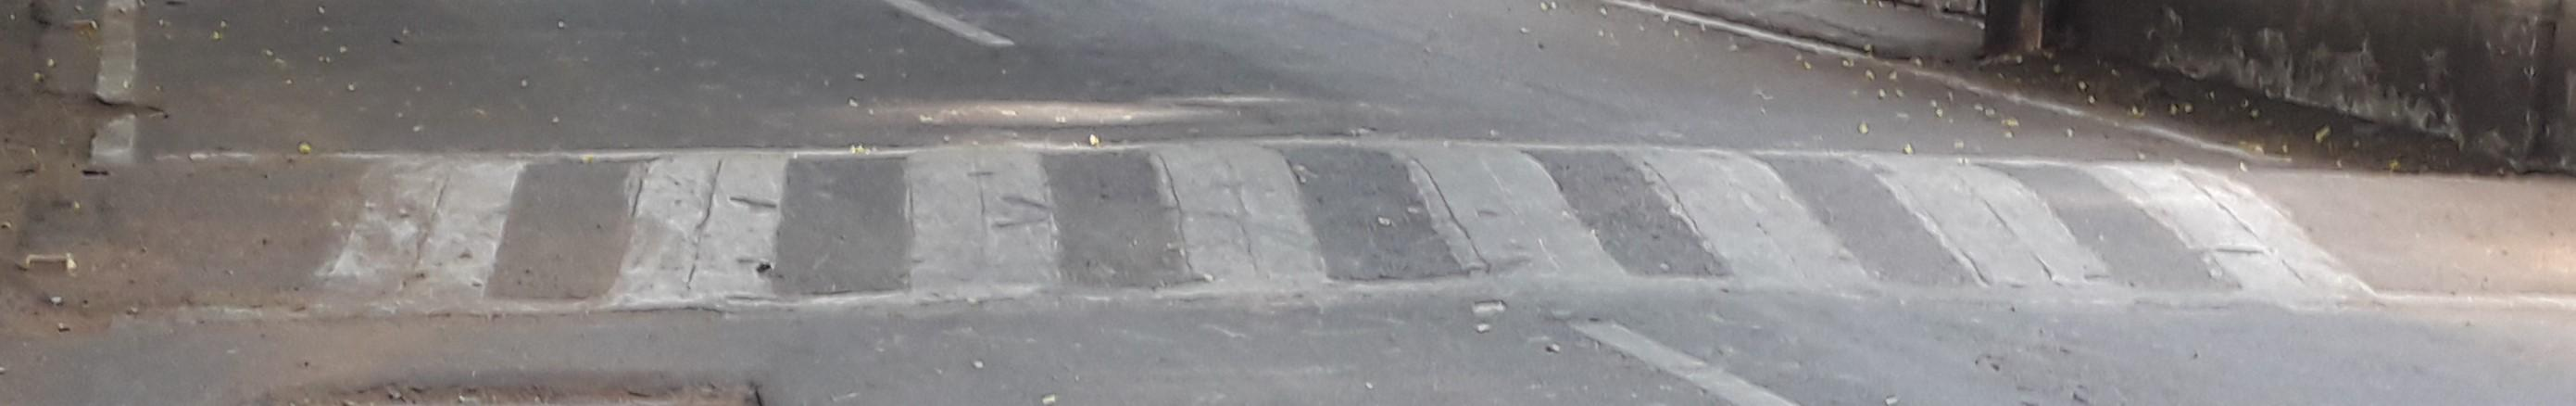speed-bump: (28, 128, 2570, 320)
